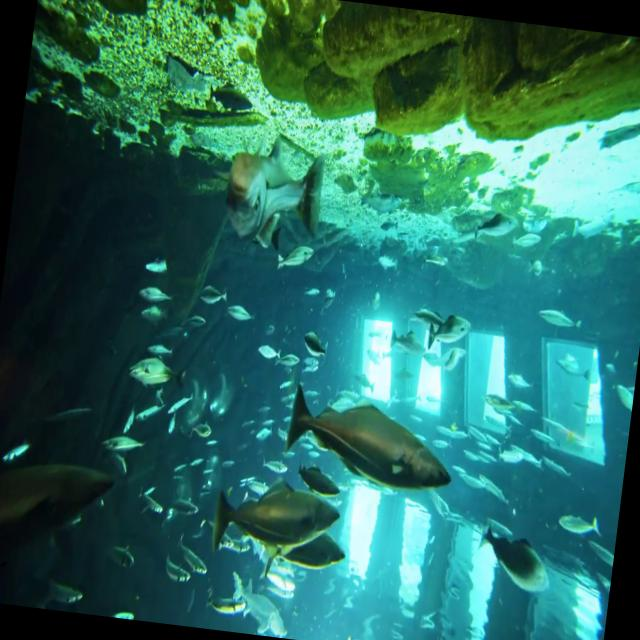fish: (286, 385, 462, 494), (0, 447, 127, 575), (215, 134, 336, 254), (206, 476, 344, 566), (474, 524, 560, 600), (256, 522, 348, 592), (125, 355, 188, 393), (472, 206, 518, 247), (426, 313, 471, 352), (274, 242, 314, 276), (556, 512, 604, 540), (104, 428, 148, 454), (301, 334, 327, 366)
